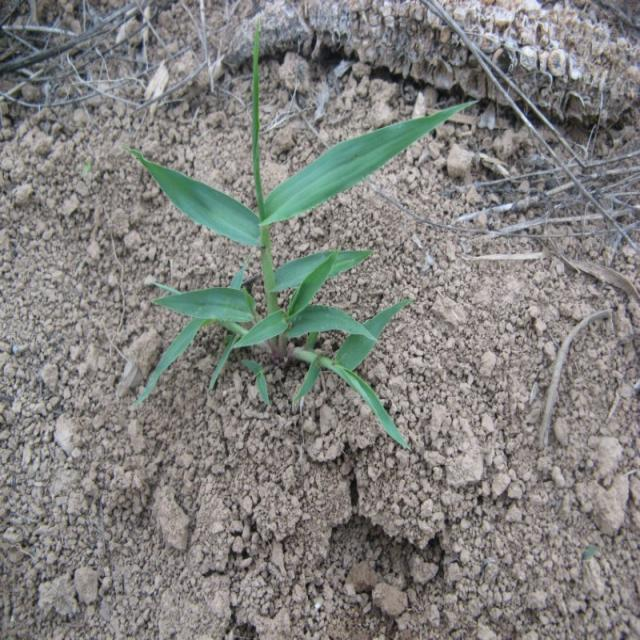bg: (122, 31, 465, 447)
